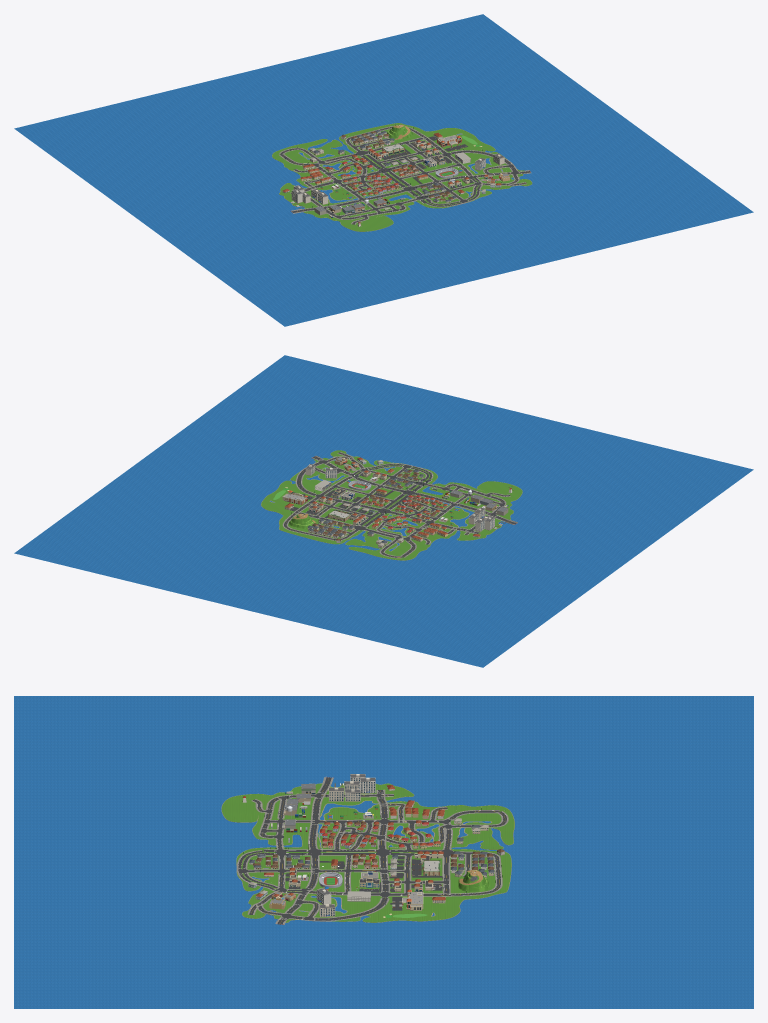
3 renders of one model, top to bottom at view 1: azimuth 30°, elevation 25°; view 2: azimuth 150°, elevation 25°; view 3: azimuth 270°, elevation 25°, orthographic. The views are drawn at different scales.
Parts seen in each view (by area): view 1: ground; view 2: ground; view 3: ground, trash_mountain.
Boxes of the visible parts, bbox=[...] form: ground: bbox=[14, 14, 753, 326]; ground: bbox=[14, 355, 753, 667]; ground: bbox=[14, 696, 753, 1008]; trash_mountain: bbox=[458, 870, 489, 892].
Size of the model in its own units: 1280 by 25.93 by 1280.
88 materials, 48 textured.
